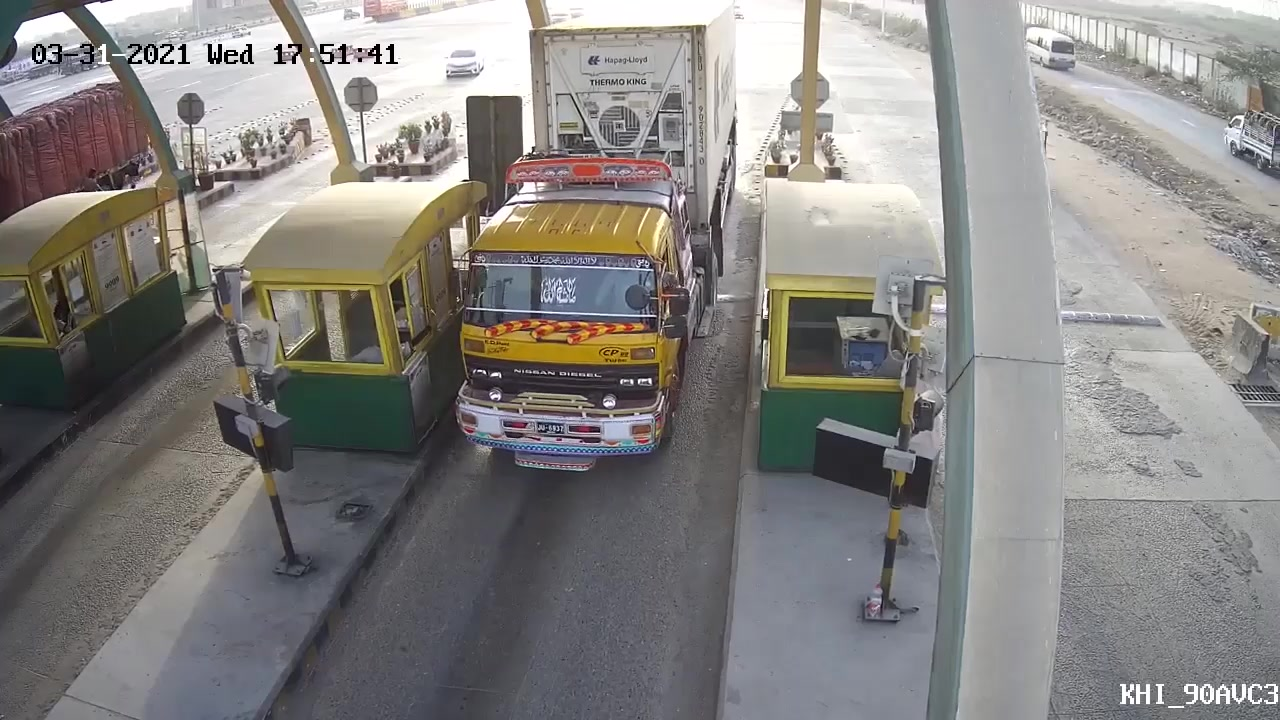F5: (447, 1, 747, 482)
